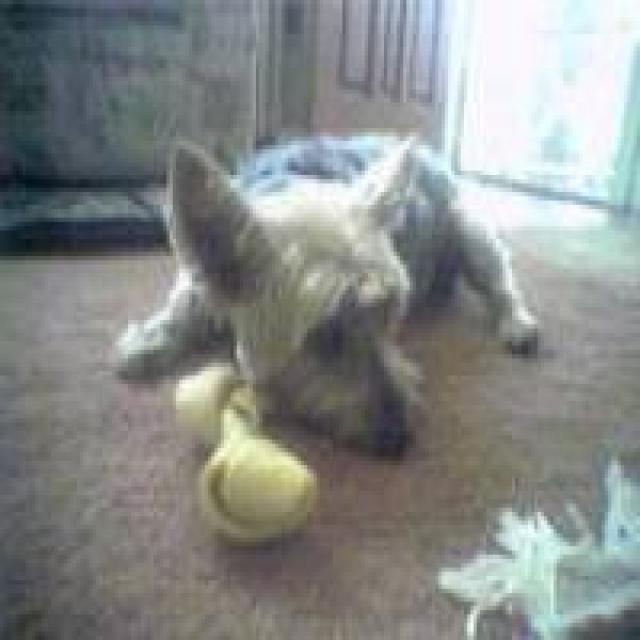dog-yorkshire_terrier: (96, 132, 422, 457)
